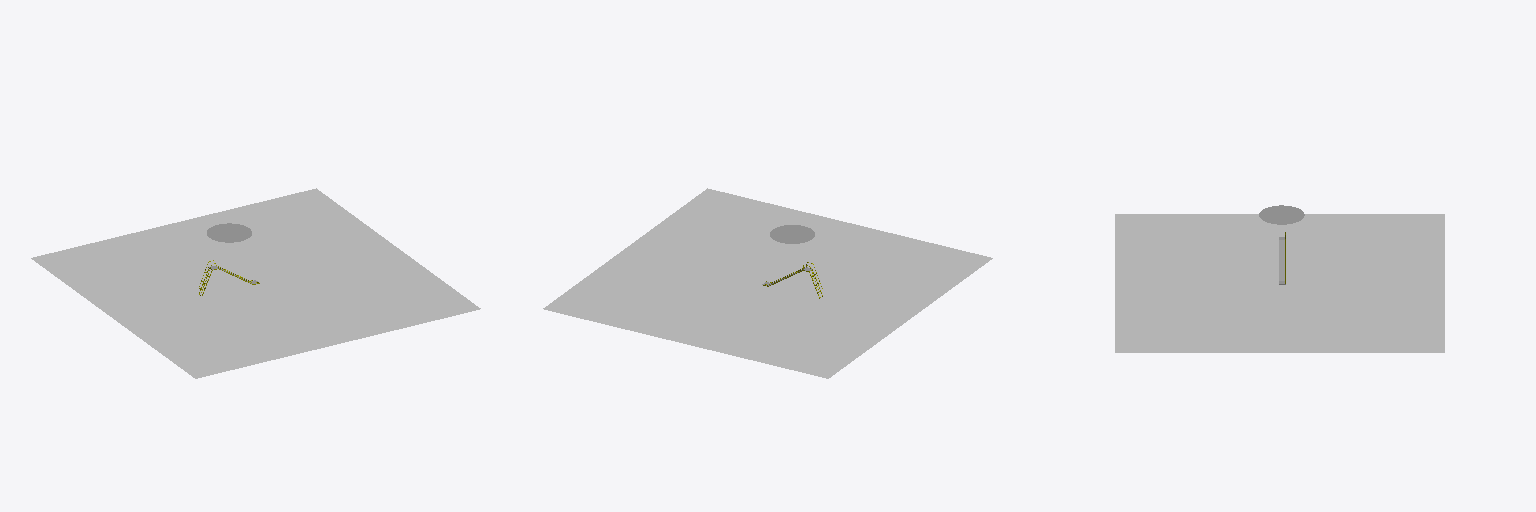
3 renders of one model, left to right at view 1: azimuth 30°, elevation 25°; view 2: azimuth 150°, elevation 25°; view 3: azimuth 270°, elevation 25°, orthographic.
Parts seen in each view (by area): view 1: Plane_Plane.001, Circle; view 2: Plane_Plane.001, Circle; view 3: Plane_Plane.001, Circle.
Boxes of the visible parts, <box> form: Plane_Plane.001: <box>31,188,480,378</box>; Circle: <box>207,223,251,242</box>; Plane_Plane.001: <box>543,188,992,378</box>; Circle: <box>770,225,814,243</box>; Plane_Plane.001: <box>1115,214,1444,352</box>; Circle: <box>1259,205,1304,224</box>.
Size of the model in its own units: 47.42 by 9.02 by 47.42.